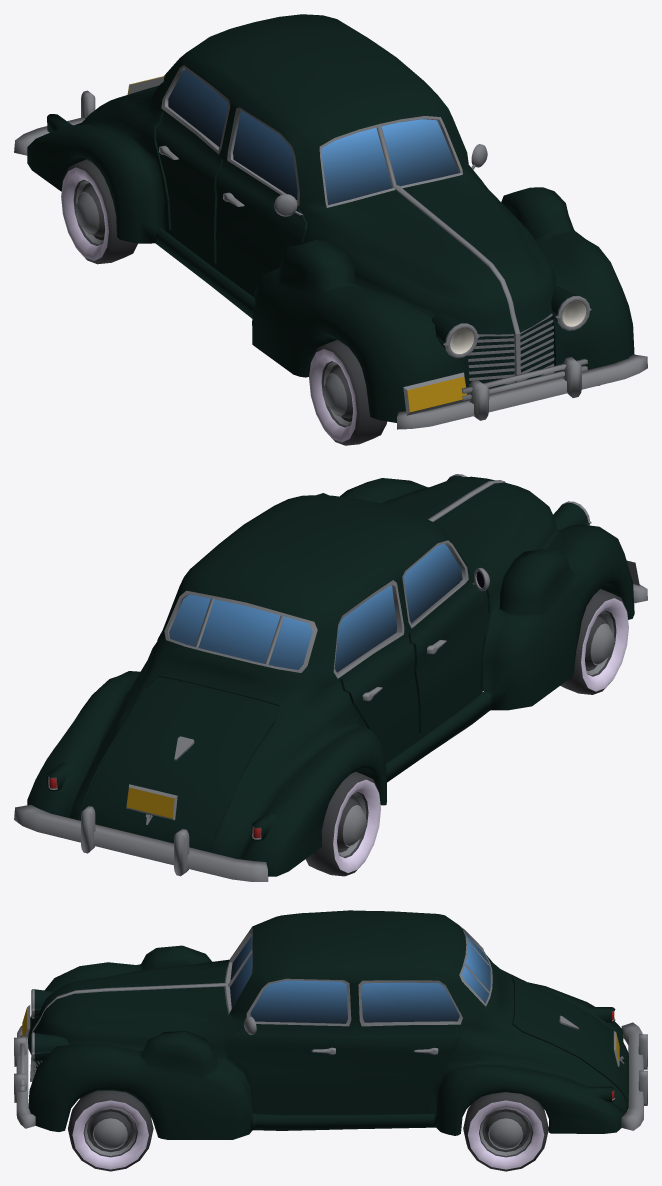
The model's file is Car_8.fbx.
3 renders of one model, top to bottom at view 1: azimuth 30°, elevation 25°; view 2: azimuth 150°, elevation 25°; view 3: azimuth 270°, elevation 25°, orthographic. The views are drawn at different scales.
Parts seen in each view (by area): view 1: 8_Car_BaseBody, 8_Car_Glasses, 8_Car_FrontRight, 8_Car_BackRight; view 2: 8_Car_BaseBody, 8_Car_Glasses, 8_Car_BackRight, 8_Car_FrontRight; view 3: 8_Car_BaseBody, 8_Car_Glasses, 8_Car_FrontLeft, 8_Car_BackLeft.
Boxes of the visible parts, left/top/right/bottom form: 8_Car_BaseBody: left=14, top=14, right=647, bottom=429; 8_Car_Glasses: left=168, top=69, right=458, bottom=204; 8_Car_FrontRight: left=309, top=340, right=386, bottom=445; 8_Car_BackRight: left=61, top=159, right=137, bottom=264; 8_Car_BaseBody: left=14, top=474, right=647, bottom=881; 8_Car_Glasses: left=169, top=543, right=462, bottom=672; 8_Car_BackRight: left=305, top=772, right=380, bottom=876; 8_Car_FrontRight: left=560, top=589, right=628, bottom=694; 8_Car_BaseBody: left=14, top=910, right=647, bottom=1139; 8_Car_Glasses: left=230, top=935, right=490, bottom=1023; 8_Car_FrontLeft: left=68, top=1090, right=153, bottom=1171; 8_Car_BackLeft: left=463, top=1092, right=548, bottom=1171.
Bounding box in the file's own units: 283 × 231 × 698.
